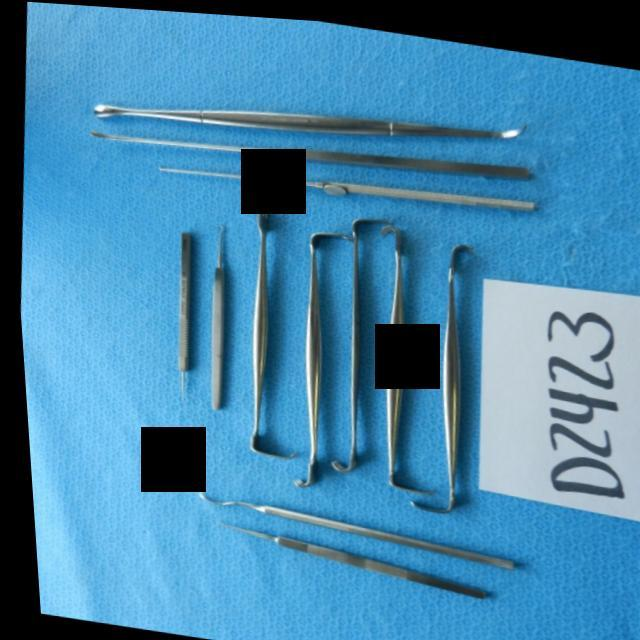Senn Retractor: (64, 34, 535, 176), (385, 219, 498, 515), (352, 201, 454, 502), (311, 194, 401, 486), (218, 187, 299, 460), (273, 208, 345, 498)
